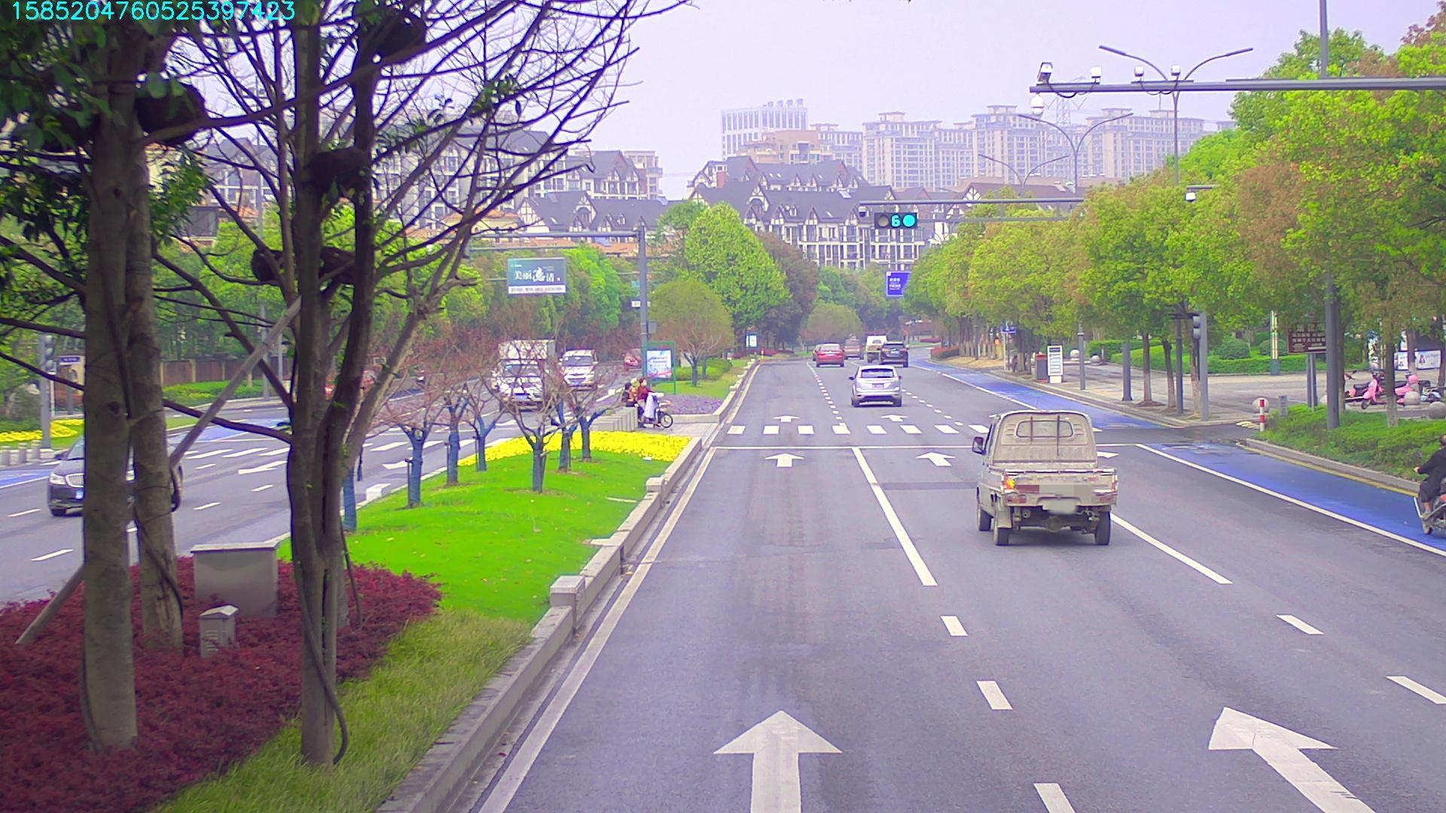green: (872, 212, 914, 231)
